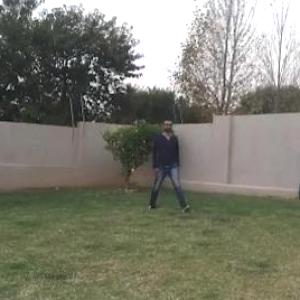follow: (153, 113, 178, 213)
